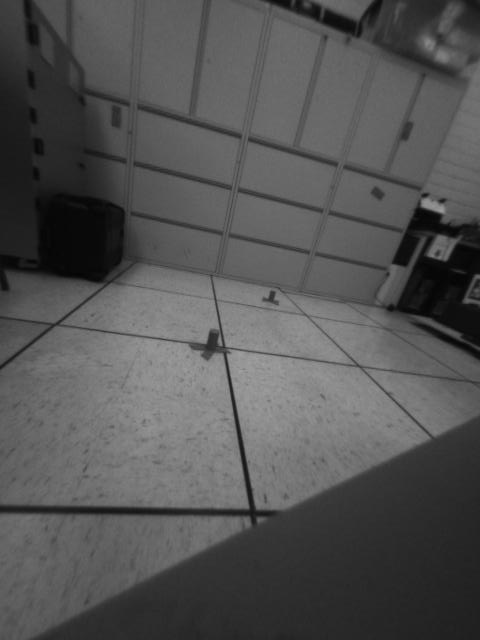X: (188, 328, 230, 364), (260, 290, 283, 306)
